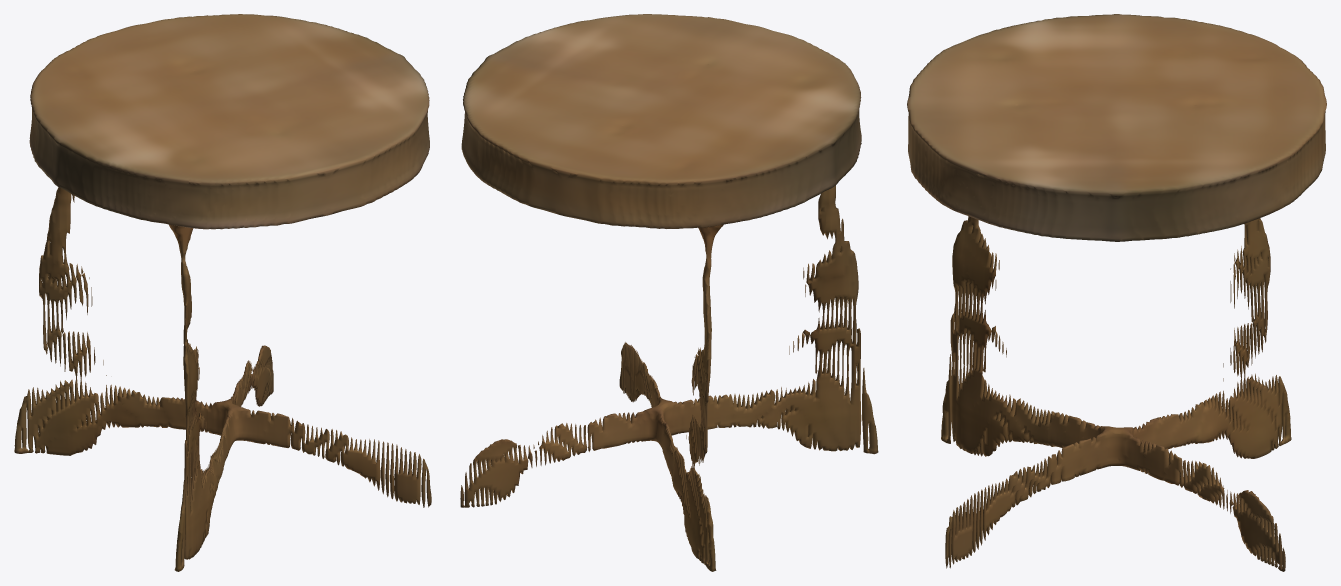
Rendered from Modern end table with a beige circular top and sma.glb.
The picture shows the model from 3 angles, left to right: view 1: azimuth 30°, elevation 25°; view 2: azimuth 150°, elevation 25°; view 3: azimuth 270°, elevation 25°; orthographic projection. The views are drawn at different scales.
Visible parts, largest first — view 1: Modern end table with a beige circular top and sma; view 2: Modern end table with a beige circular top and sma; view 3: Modern end table with a beige circular top and sma.
Boxes of the visible parts, box(x1,y1,x2,y2) form: Modern end table with a beige circular top and sma: box(14, 14, 431, 571); Modern end table with a beige circular top and sma: box(460, 14, 878, 571); Modern end table with a beige circular top and sma: box(907, 14, 1326, 571).
Size of the model in its own units: 1.89 by 1.98 by 1.86.
